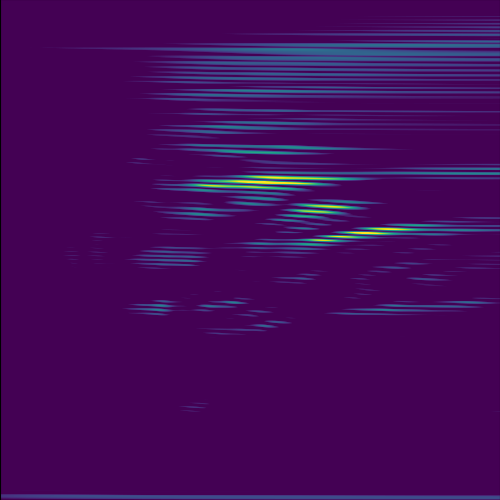semblance: (169, 169, 351, 196), (285, 222, 429, 249), (273, 198, 374, 225)
